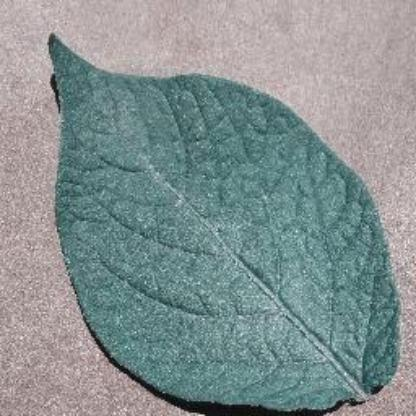Healthy-plant: (39, 29, 412, 408)
